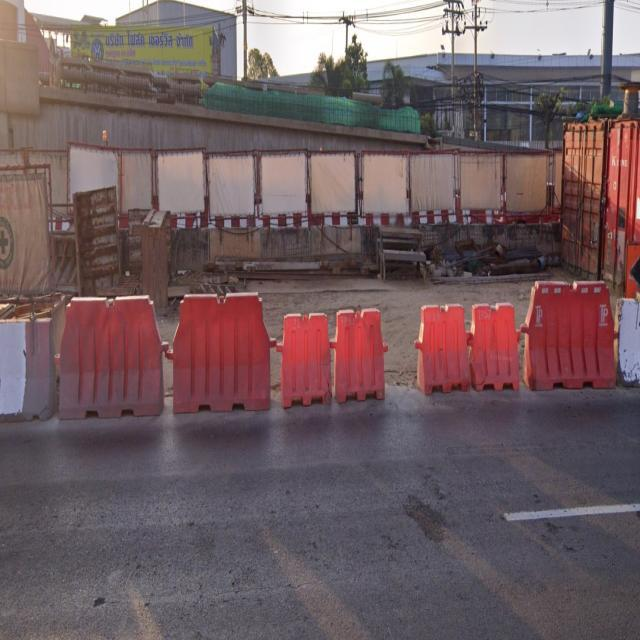fallen_object: (140, 256, 273, 428), (49, 285, 181, 442), (489, 262, 640, 388), (260, 299, 394, 412), (412, 275, 525, 402), (0, 299, 67, 426)
